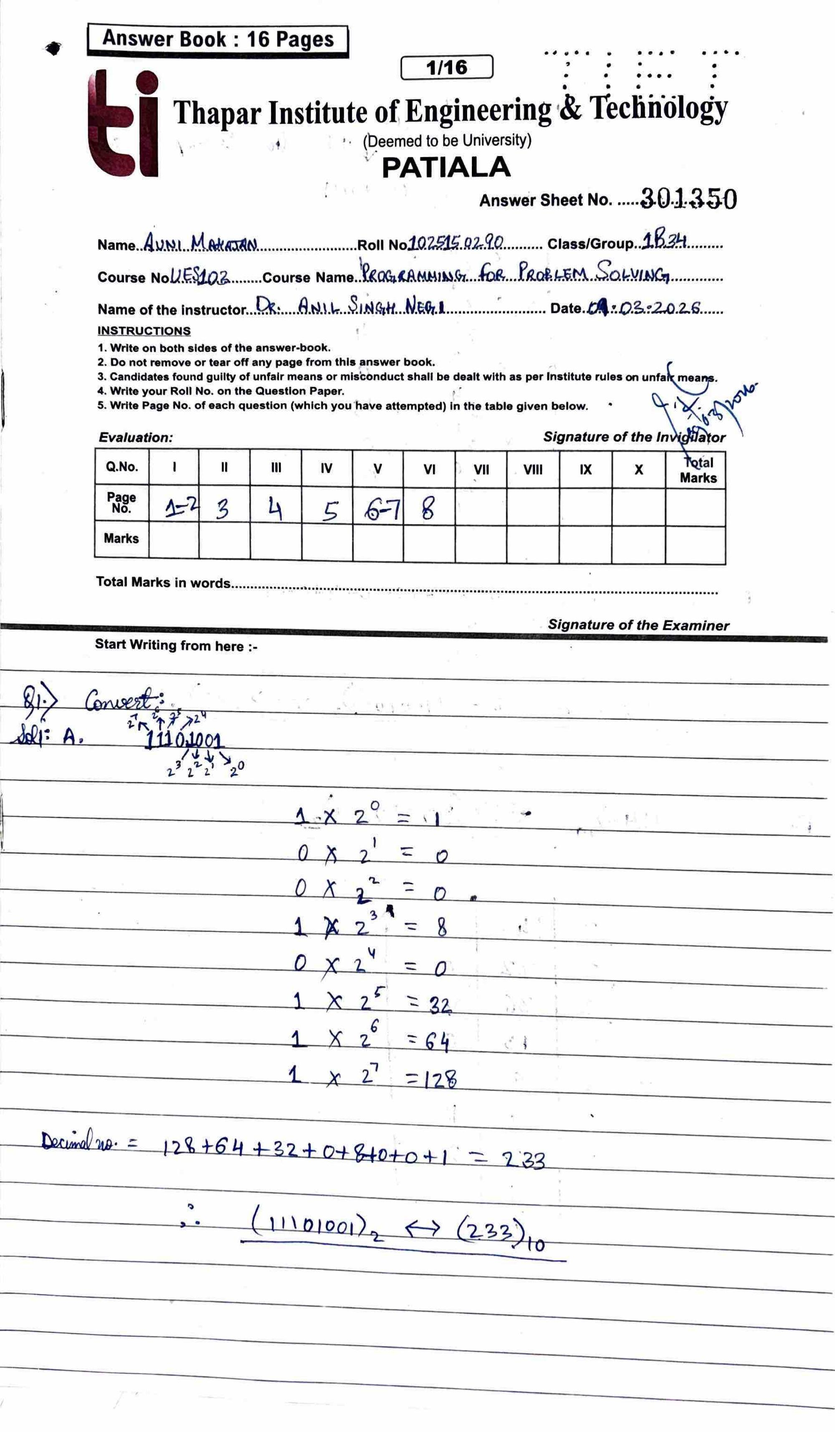cuttings: (385, 903, 395, 918)
